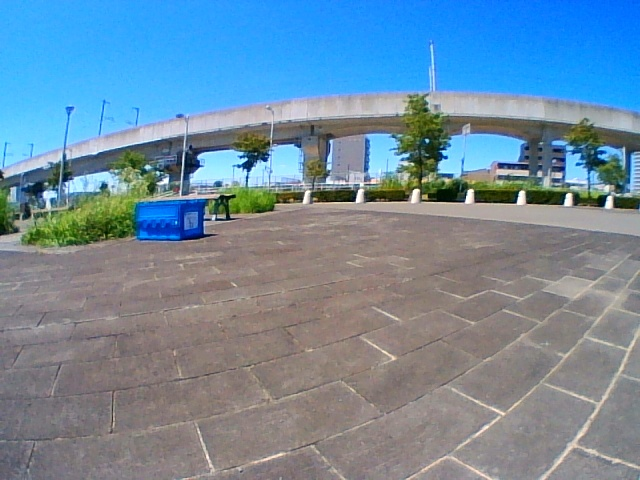blue_box: (138, 201, 203, 237)
tag_b: (184, 213, 197, 230)
